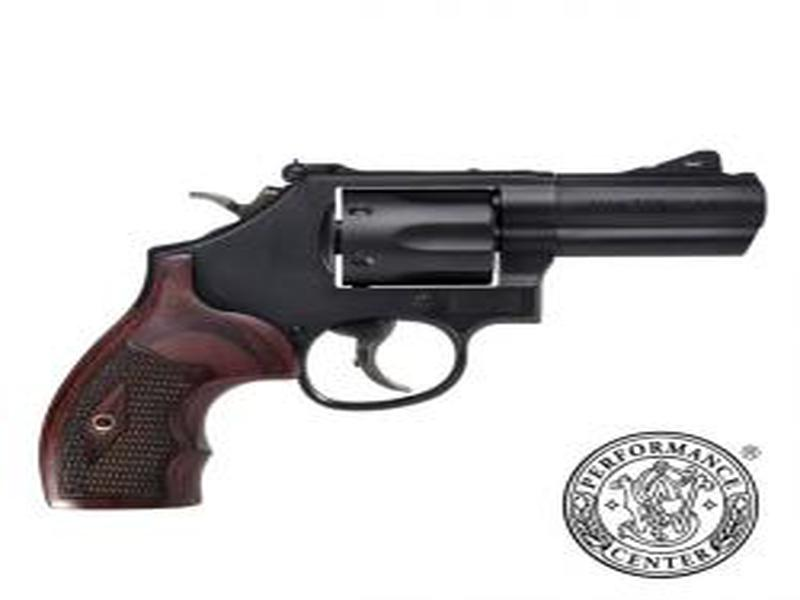Revolver: (103, 106, 786, 434)
